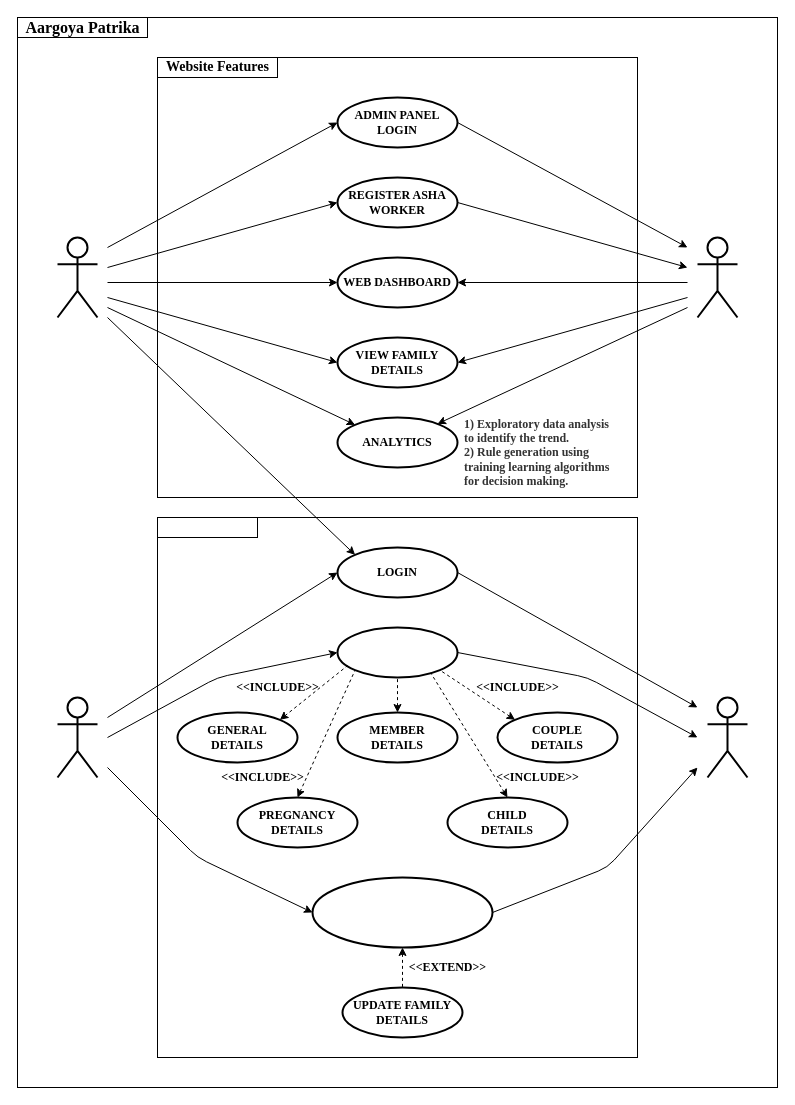
Image size: 795x1105. Some labels were removed from this diagram. The centre of each missing label's shape, as x and y in pixels:
"ADD FAMILY DETAILS" goes at [397,652].
"ADMIN" goes at [77,277].
"APP" goes at [727,737].
"App Features" goes at [207,527].
"ASHA WORKERS" goes at [77,737].
"VIEW FAMILY DETAIL ADDED BY PARTICULAR ASHA WORKER" goes at [402,912].
"WEB SERVER (WEBSITE)" goes at [717,277].
